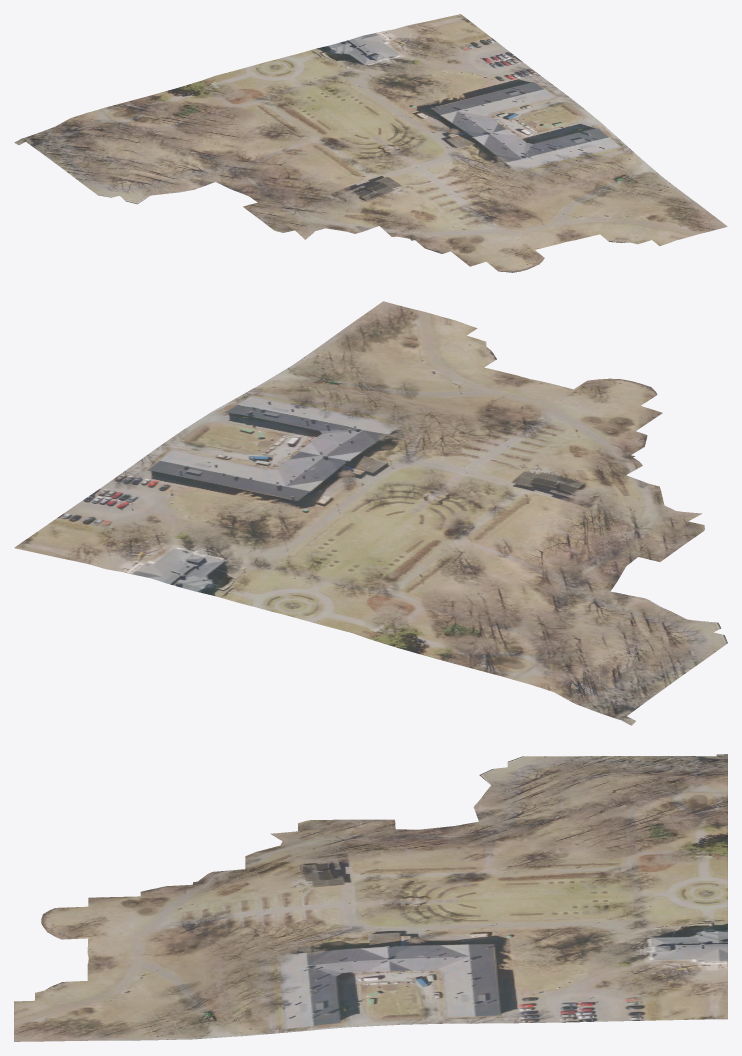
File: CM_Terrain_24486568_6819180.fbx
The picture shows the model from 3 angles, top to bottom: view 1: azimuth 30°, elevation 25°; view 2: azimuth 150°, elevation 25°; view 3: azimuth 270°, elevation 25°; orthographic projection. The views are drawn at different scales.
Visible parts, largest first — view 1: CM_Terrain_24486568_6819180_LOD0; view 2: CM_Terrain_24486568_6819180_LOD0; view 3: CM_Terrain_24486568_6819180_LOD0.
Part boxes in pixels (<box>): CM_Terrain_24486568_6819180_LOD0: <box>14,14,727,272</box>; CM_Terrain_24486568_6819180_LOD0: <box>14,301,727,725</box>; CM_Terrain_24486568_6819180_LOD0: <box>14,754,727,1041</box>.
Size of what is drawn, in the model's own units: 198 by 10.03 by 205.
